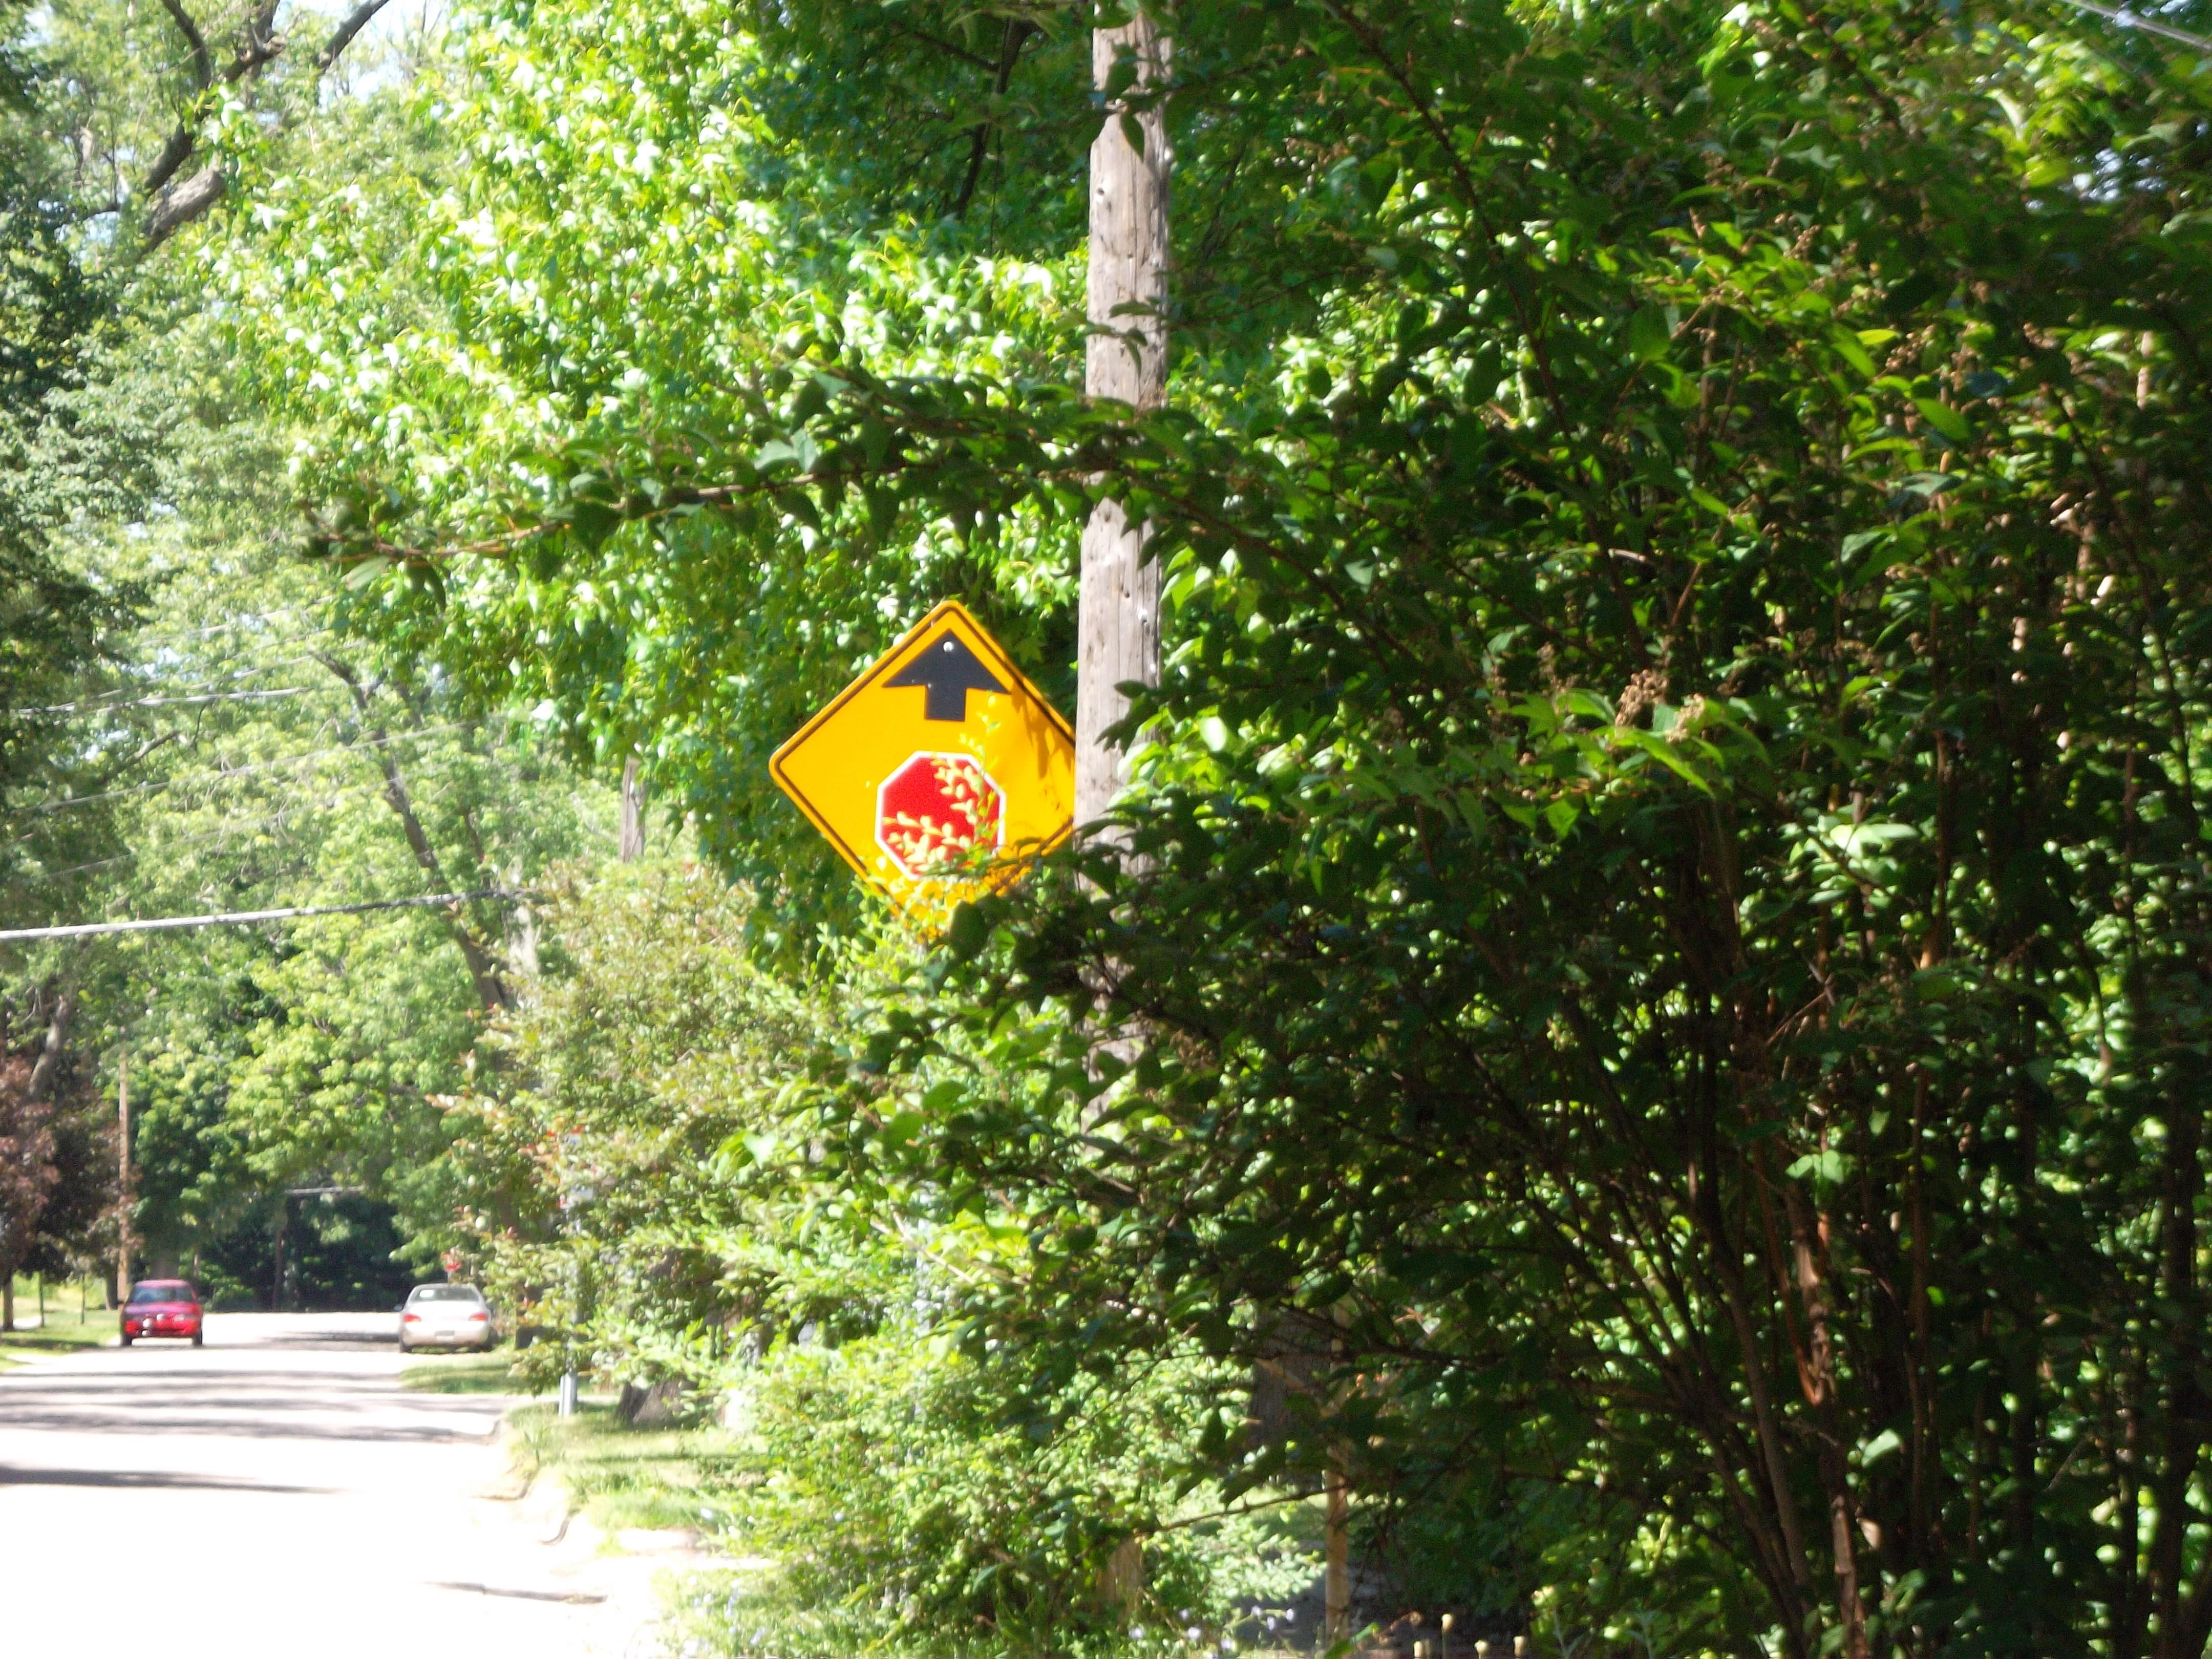stop: (878, 749, 1005, 880)
warning: (773, 598, 1078, 932)
